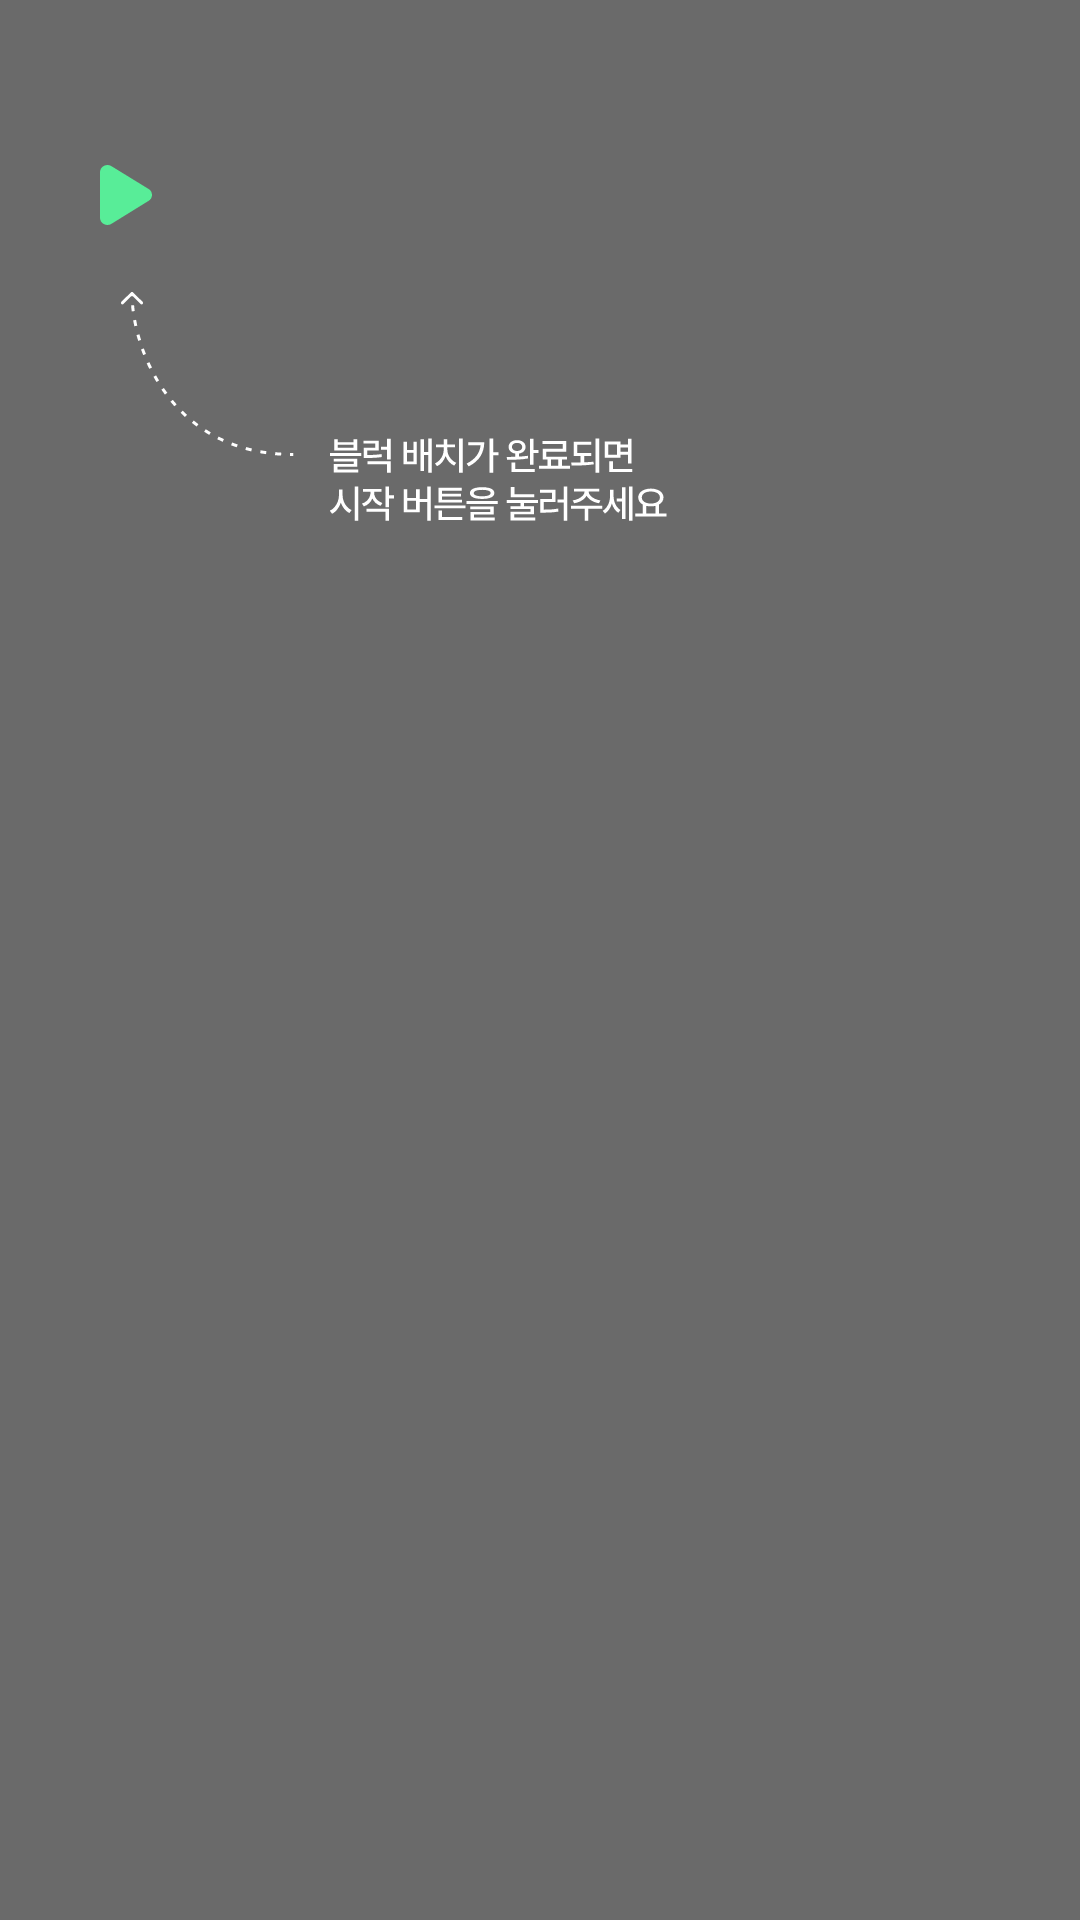

Locate icon controls on the screen. Image size 1080*1920, boxes as {"left": x1, "top": y1, "right": x2, "bottom": y2}.
gameplay: {"left": 100, "top": 165, "right": 152, "bottom": 225}
